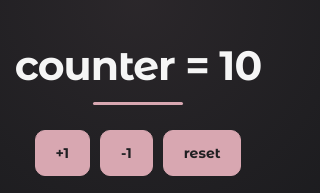
MyCounterApp › should increse the header when active the +1 button
This screenshot has width=320, height=193.
Click the button "+1". click: (62, 153)
box: [34,130,90,176]
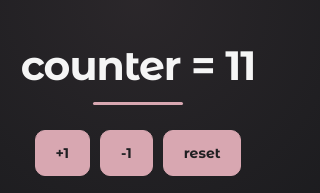
Expected: the heading reads "counter = 11", [21,40,255,105]
